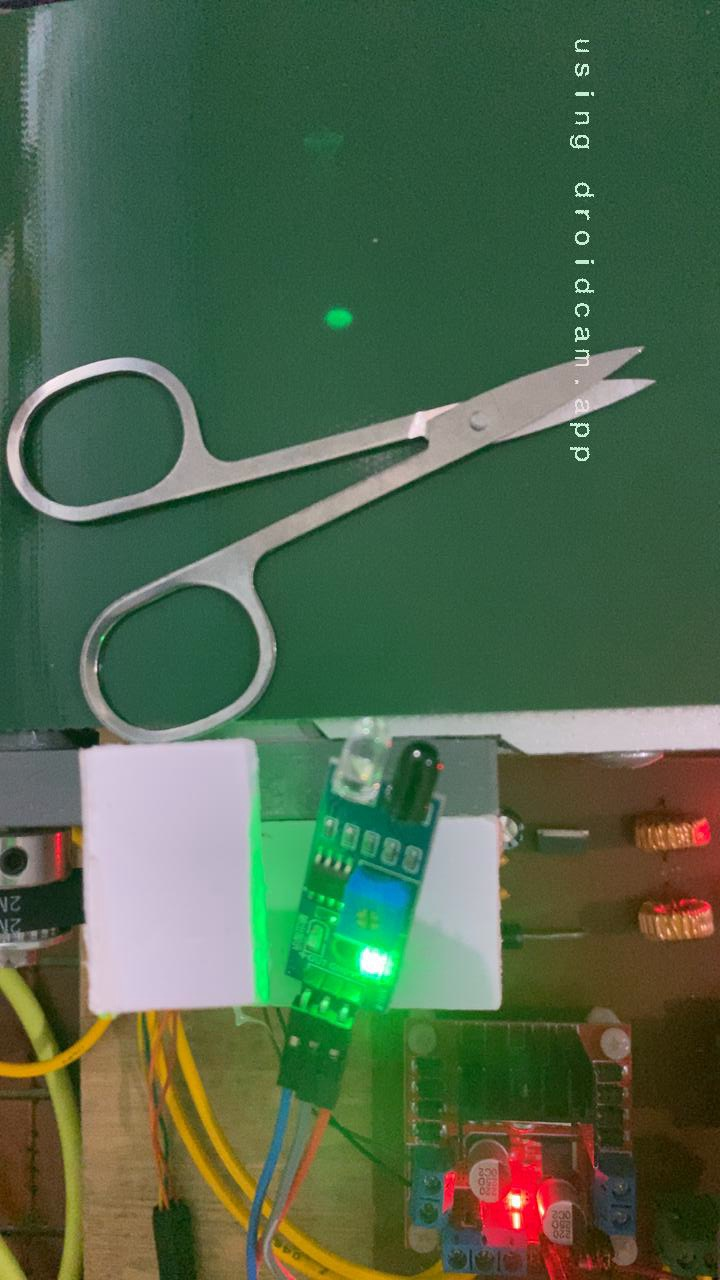scissor: (0, 340, 664, 719)
